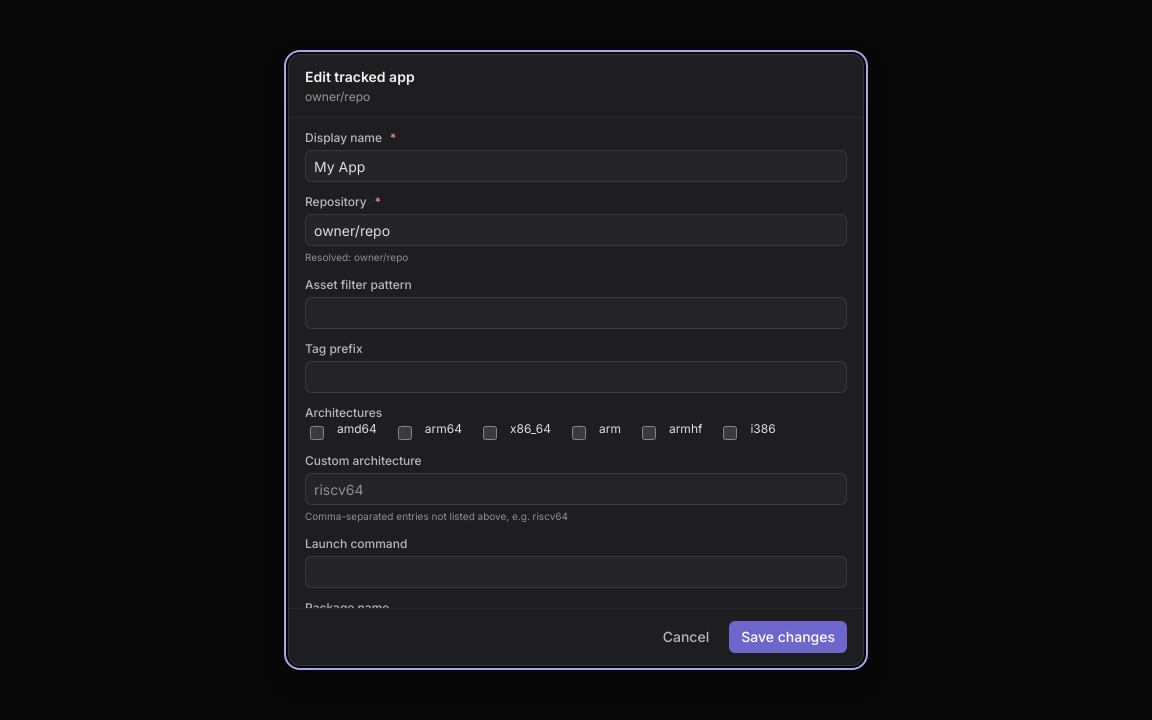
EditAppDialog › rejects a malformed repository reference
The image size is (1152, 720).
Type "just-a-name" into the field labelled "Repository" at [576, 230], box [305,214,847,246]
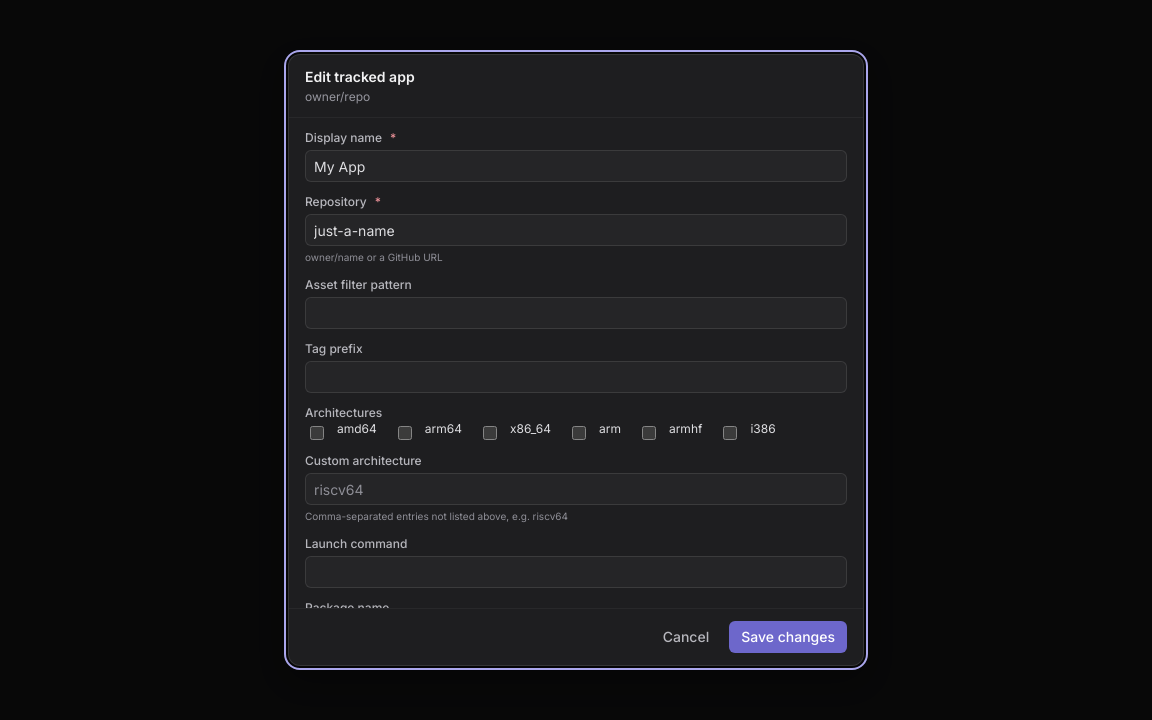
Click the button "Save changes" at [788, 637], box [729,621,847,653]
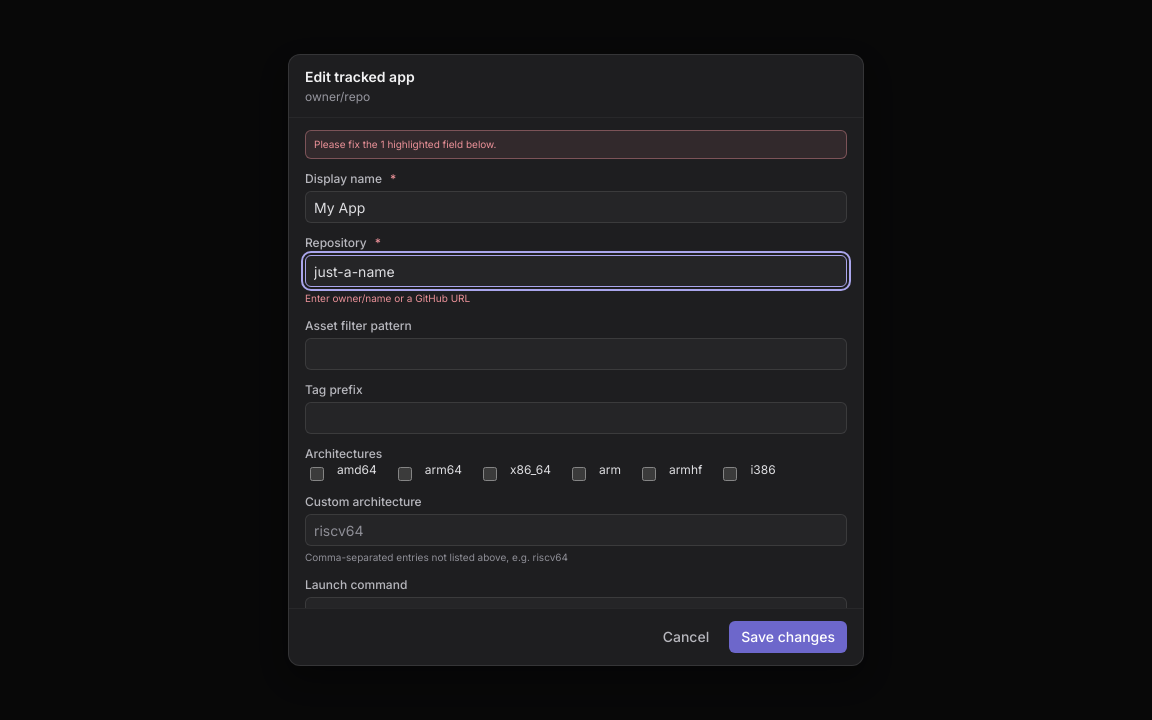
Check: the text "Enter owner/name or a GitHub URL" is shown, box [305,292,470,304]
